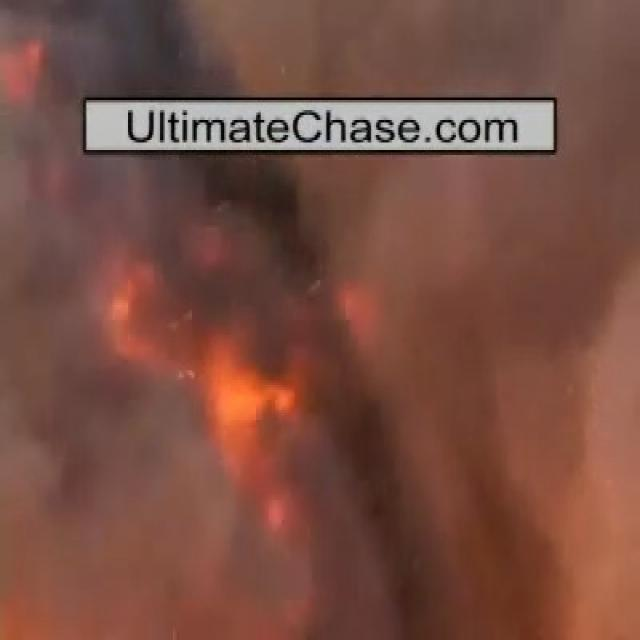smoke: (31, 164, 560, 542), (49, 1, 530, 94)
